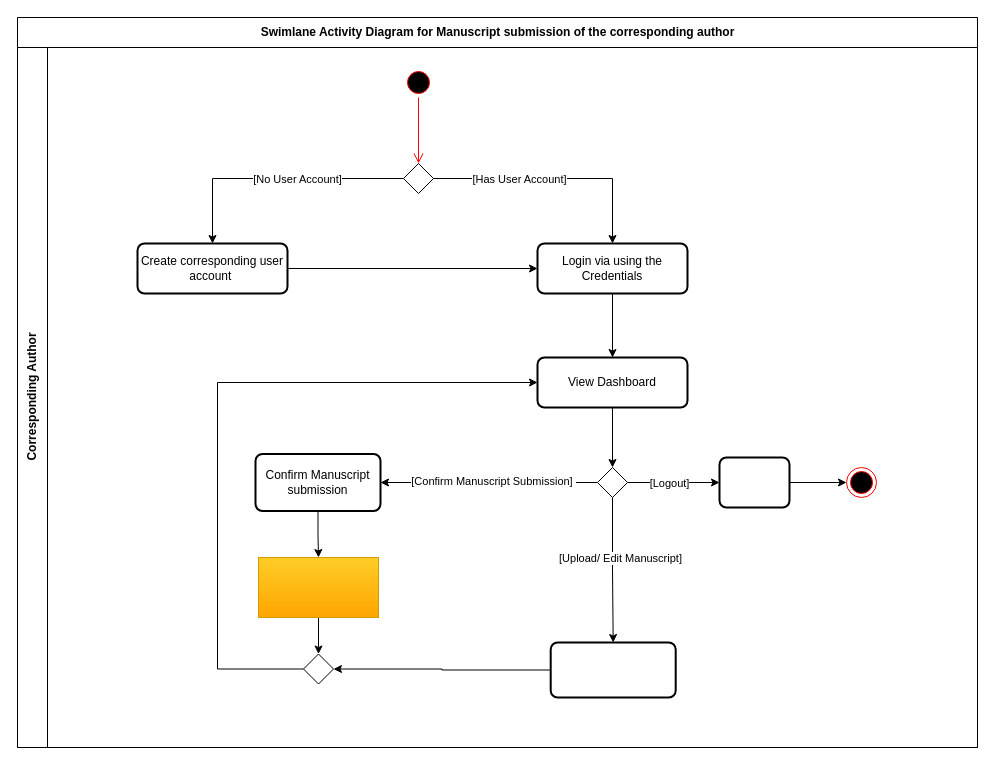
Image size: 995x765. Some labels were removed from this diagram. The centre of each missing label's shape, as x and y in pixels:
"Logout" goes at [754,482].
"Submission Complete Email" goes at [318,587].
"Upload Manuscript PDF & Word document" goes at [612,669].
